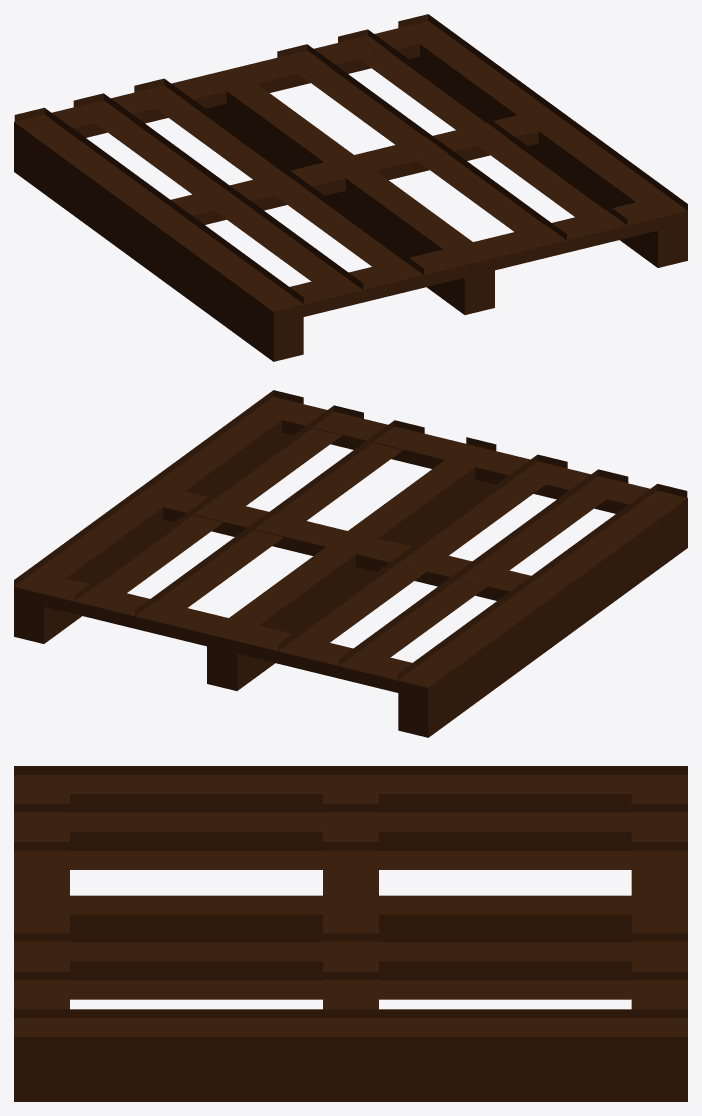
File: Empty pallet.fbx
3 renders of one model, top to bottom at view 1: azimuth 30°, elevation 25°; view 2: azimuth 150°, elevation 25°; view 3: azimuth 270°, elevation 25°, orthographic. The views are drawn at different scales.
Visible parts, largest first — view 1: Cube.002; view 2: Cube.002; view 3: Cube.002.
Boxes of the visible parts, box(x1,y1,x2,y2) form: Cube.002: box(14, 14, 687, 361); Cube.002: box(14, 390, 687, 737); Cube.002: box(14, 766, 687, 1101).
Bounding box in the file's own units: 287 × 37.54 × 311.
